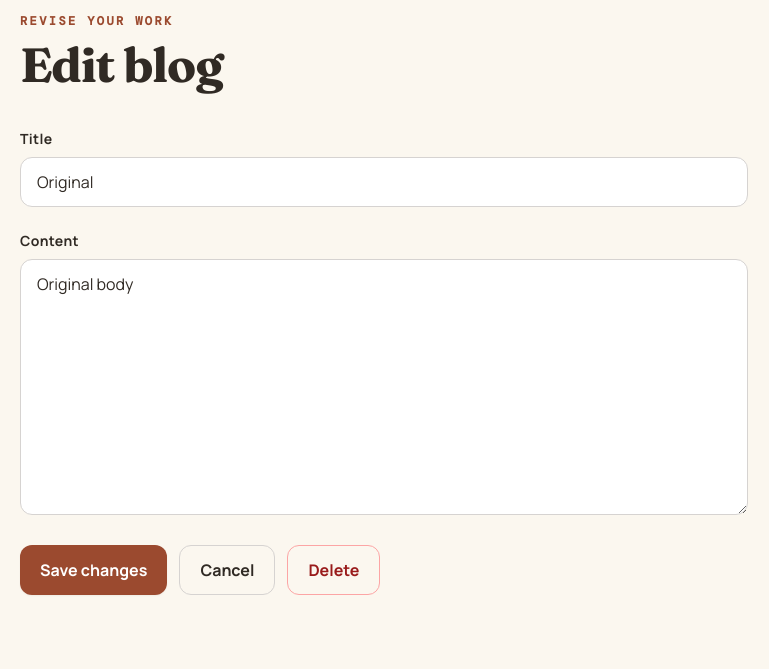
Test: writing and editing › shows an inline save error and preserves posts when updating cannot write storage
Replace the text in the field labelled "Title" with "Updated" at (384, 182), box [20,157,748,207]
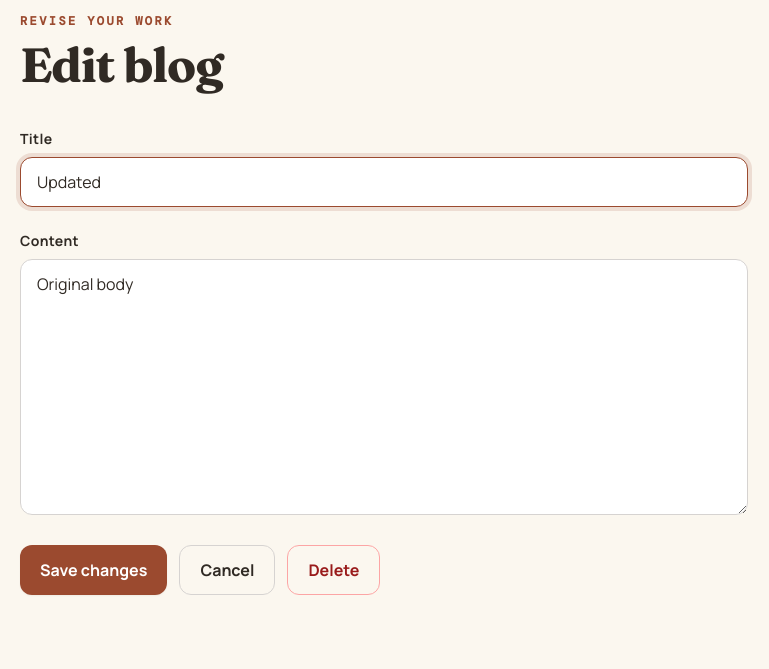
Click the button "Save changes" at (94, 570), box [20,545,167,595]
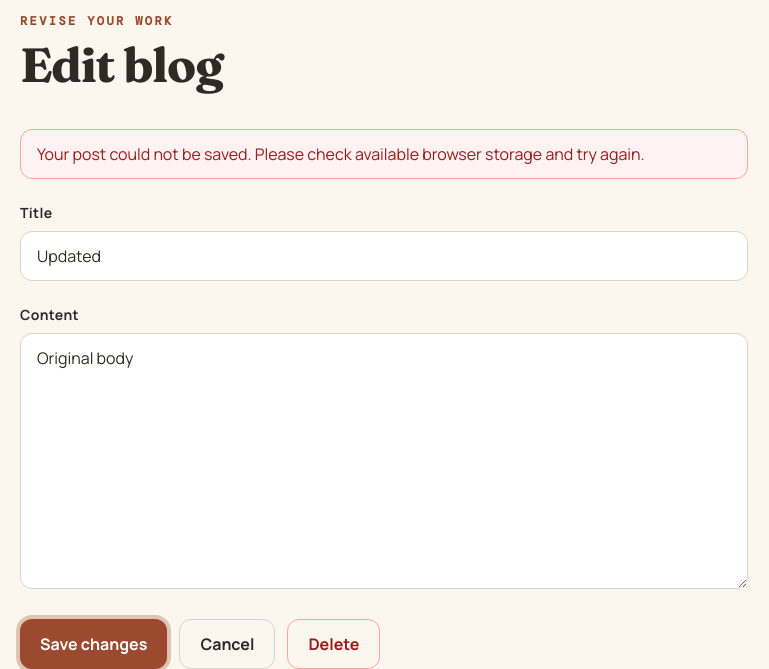
Check: the heading "Edit blog" is shown, box [20,35,222,94]
Check: the message shows "Your post could not be saved. Please check available browser storage and try again.", box [37,143,645,165]
